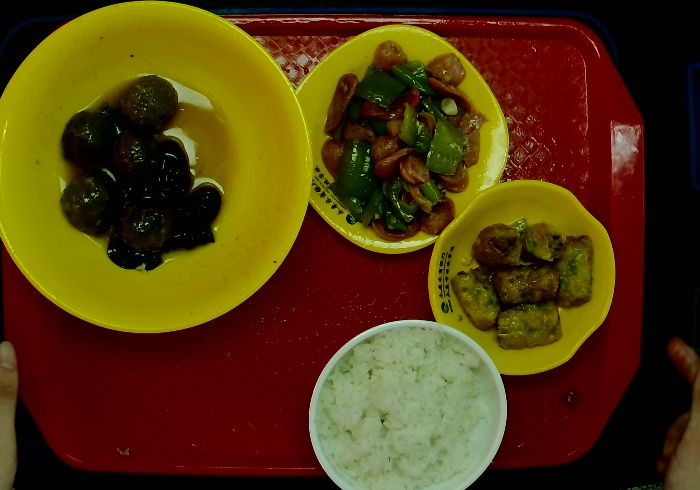YKMZ-Fan_Wan: (303, 317, 510, 490)
YKMZ-Huang_Se_Ao_Bian_Wan: (424, 177, 619, 380)
YKMZ-Huang_Se_Fang_Die: (288, 20, 513, 257)
YKMZ-Huang_Se_Tang_Wan: (1, 1, 316, 336)
